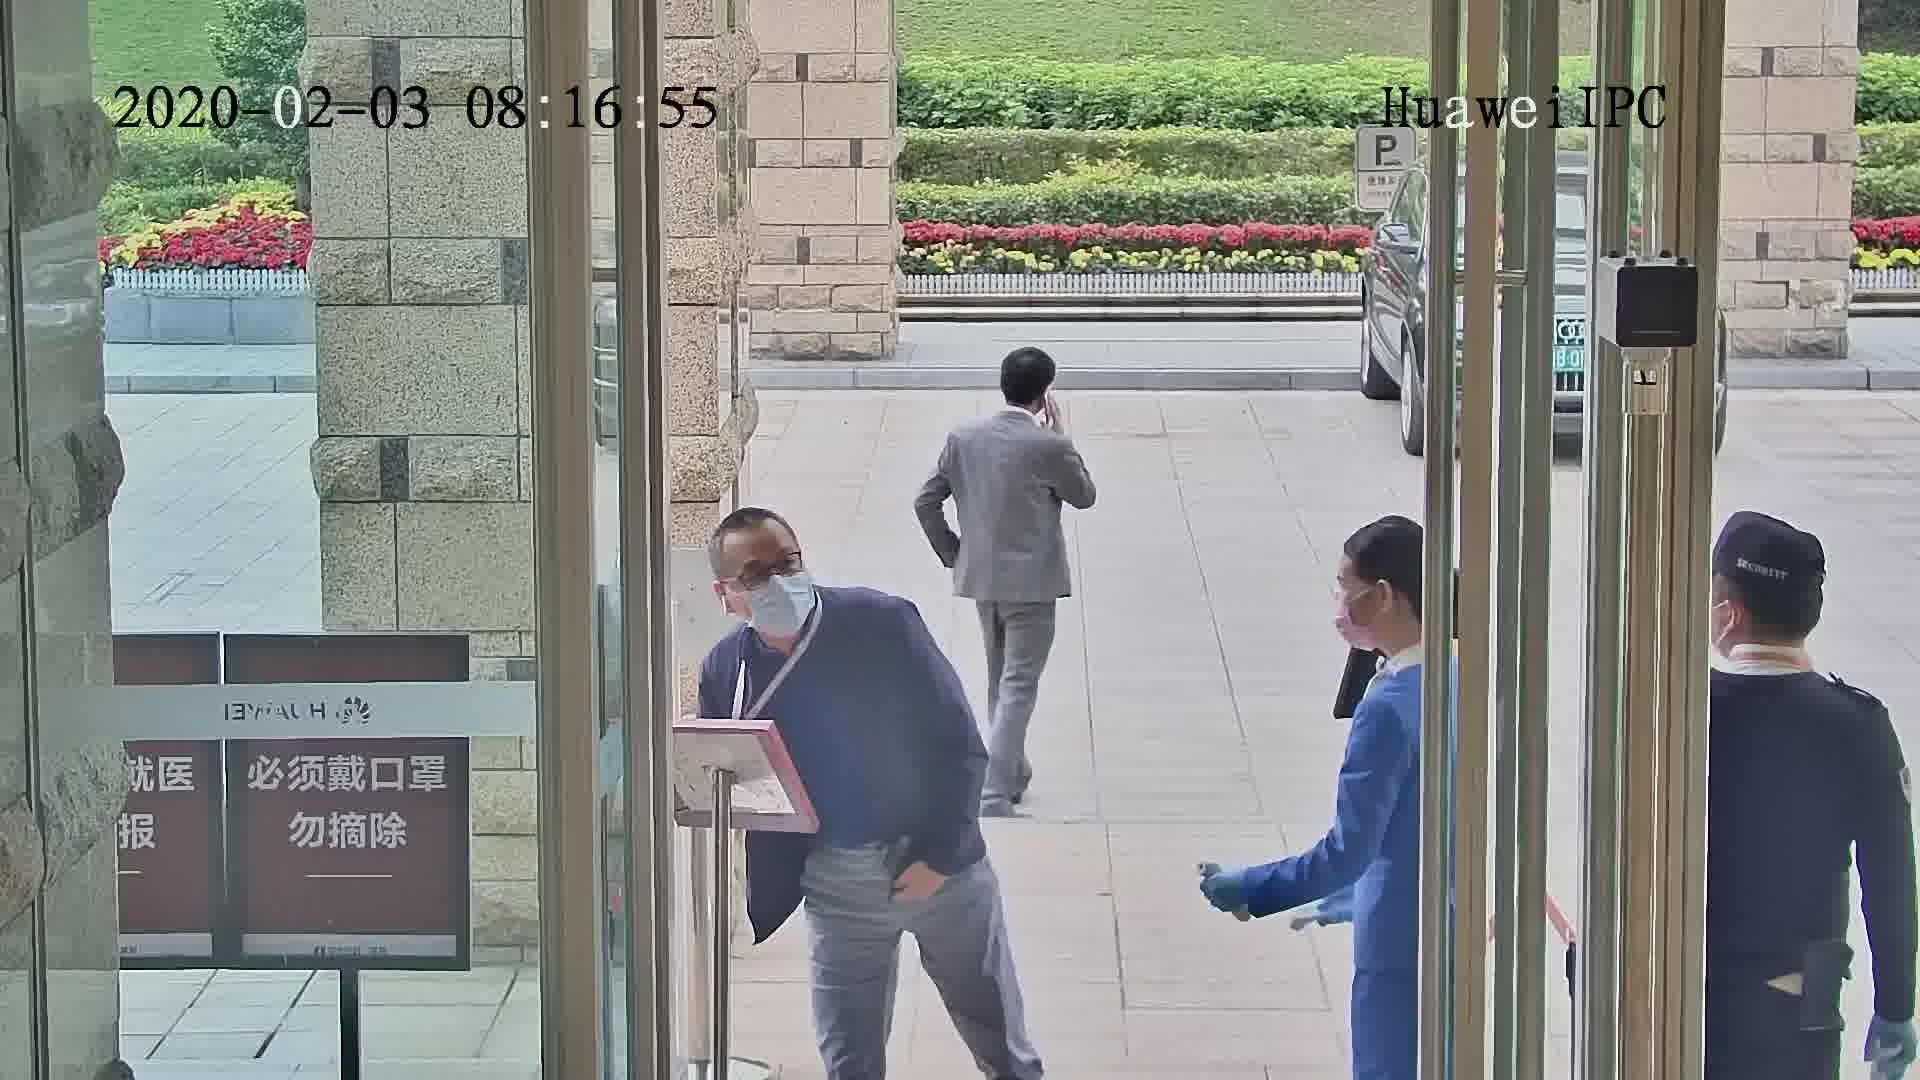face: (718, 518, 818, 631), (1331, 558, 1385, 658)
mask: (747, 573, 814, 638), (1331, 593, 1378, 655)
person: (1693, 505, 1891, 780), (700, 508, 930, 696), (1336, 509, 1439, 755), (943, 346, 1078, 467)
